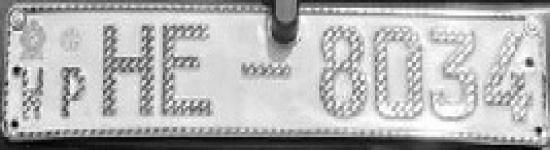-: (236, 60, 295, 84)
0: (372, 22, 426, 120)
3: (426, 22, 482, 124)
4: (482, 22, 542, 125)
8: (314, 24, 371, 120)
E: (160, 20, 221, 122)
H: (98, 18, 159, 122)
P: (54, 59, 92, 121)
W: (17, 62, 48, 122)
